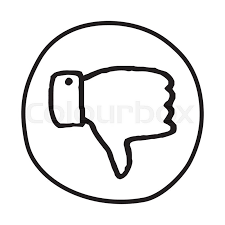thumbs_up: (52, 77, 166, 146)
